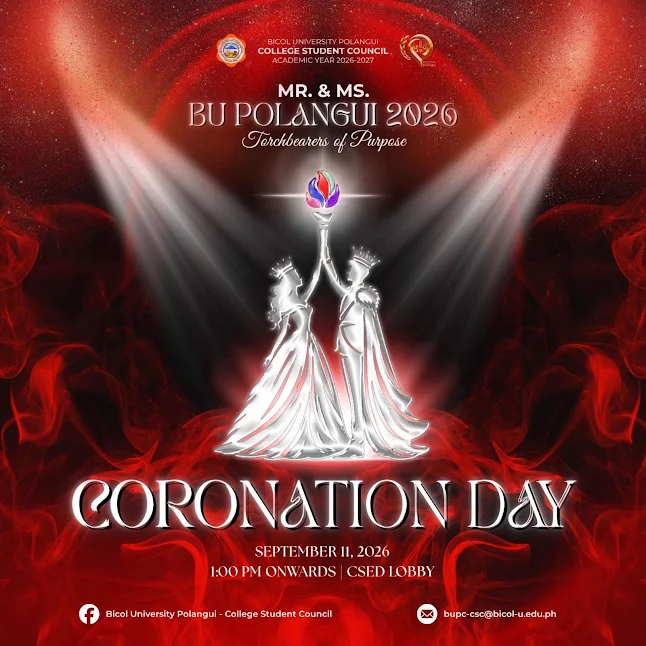embellishment: (414, 602, 439, 626), (78, 602, 101, 626)
logo: (210, 166, 436, 466), (396, 31, 440, 71), (213, 31, 250, 70)
text: (66, 472, 584, 581), (185, 80, 466, 157), (256, 36, 395, 66), (104, 606, 337, 621), (441, 605, 560, 621)
